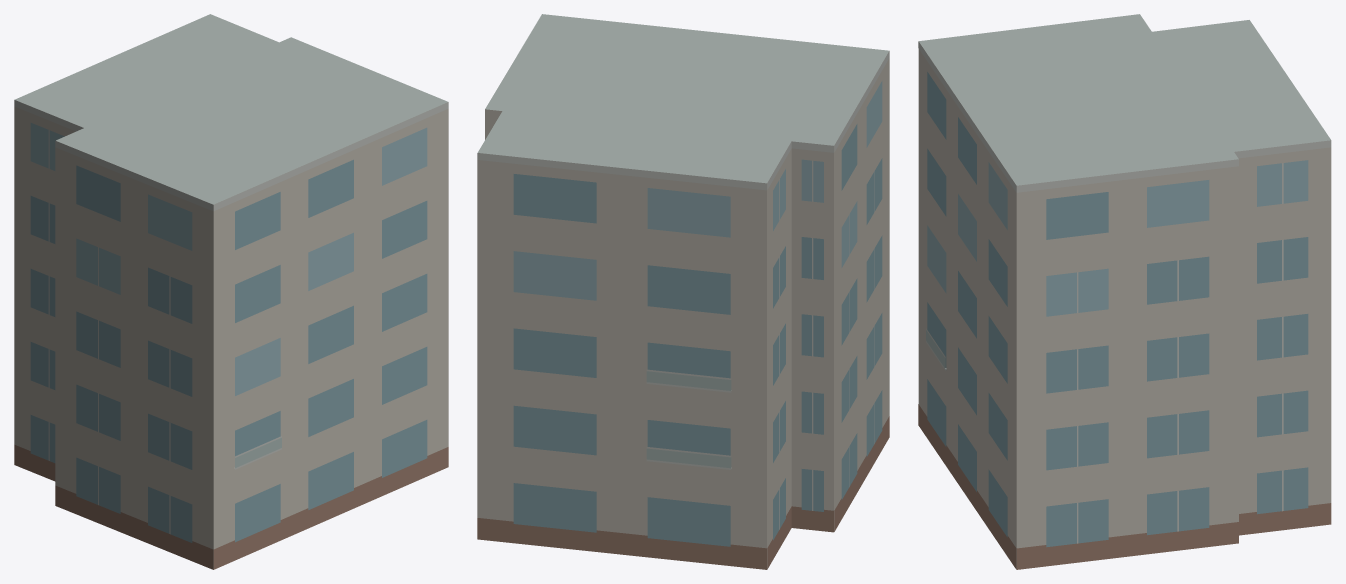
Rendered from survey-upis-32721495.glb.
3 renders of one model, left to right at view 1: azimuth 30°, elevation 25°; view 2: azimuth 150°, elevation 25°; view 3: azimuth 270°, elevation 25°, orthographic. The views are drawn at different scales.
Visible parts, largest first — view 1: survey-upis-32721495.tmp; view 2: survey-upis-32721495.tmp; view 3: survey-upis-32721495.tmp.
Boxes of the visible parts, x1,y1,x2,y2 form: survey-upis-32721495.tmp: (14, 14, 448, 569); survey-upis-32721495.tmp: (477, 14, 889, 569); survey-upis-32721495.tmp: (918, 14, 1331, 569).
Size of the model in its own units: 12.85 by 13.39 by 13.05.
